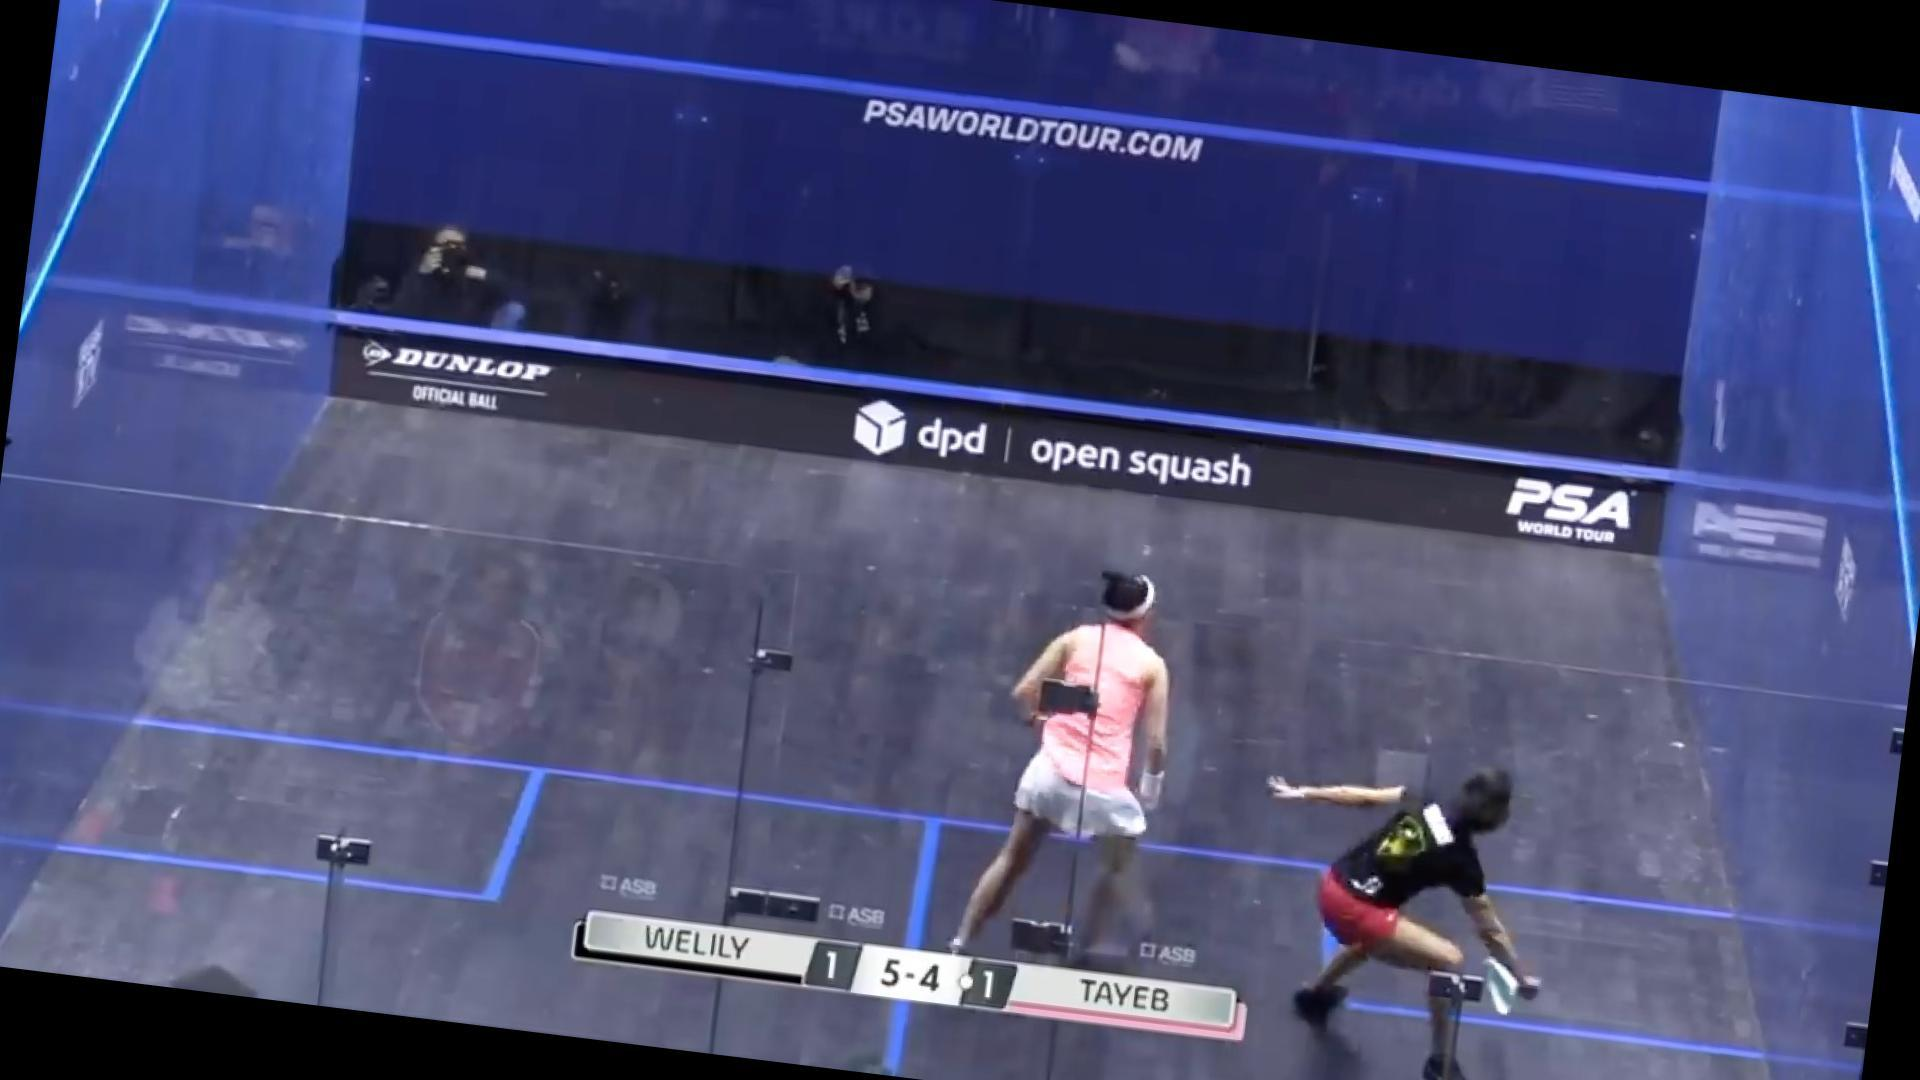Squash-Ball: (1691, 377, 1755, 465)
